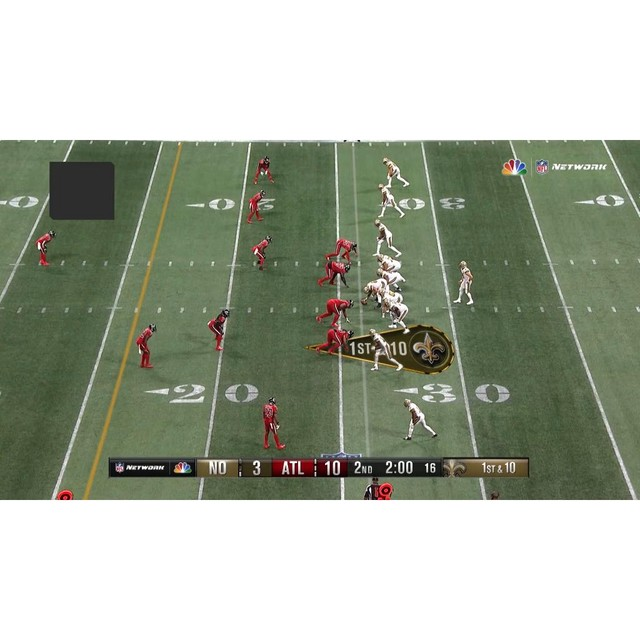american-football-player: (403, 398, 437, 441), (369, 328, 402, 372), (263, 397, 285, 450), (316, 298, 353, 328), (314, 326, 352, 354), (374, 218, 401, 257), (136, 322, 158, 368), (378, 182, 405, 219), (208, 308, 230, 351), (454, 260, 474, 306), (382, 156, 410, 188), (361, 278, 388, 309), (318, 262, 350, 288), (386, 300, 410, 334), (325, 239, 356, 265), (252, 235, 272, 271), (36, 230, 56, 265), (376, 253, 404, 277), (247, 189, 266, 223), (377, 268, 401, 291), (255, 156, 274, 184)
